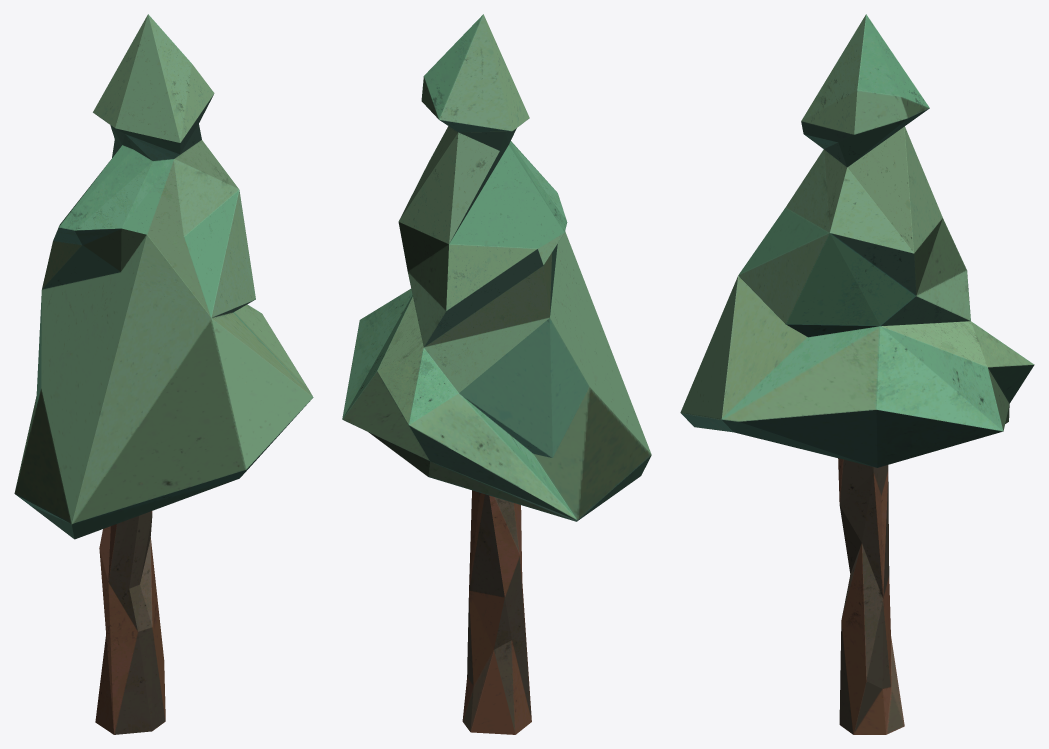
File: Tree2.fbx
3 views of the same model, side by side, from view 1: azimuth 30°, elevation 25°; view 2: azimuth 150°, elevation 25°; view 3: azimuth 270°, elevation 25° (orthographic).
Visible parts, largest first — view 1: node_id38; view 2: node_id38; view 3: node_id38.
Part boxes in pixels (box(x1,y1,x2,y2)): node_id38: box(14, 14, 313, 734); node_id38: box(342, 14, 651, 734); node_id38: box(680, 14, 1034, 734).
Size of the model in its own units: 0.1836 by 0.512 by 0.2298.
1 material, 1 textured.
